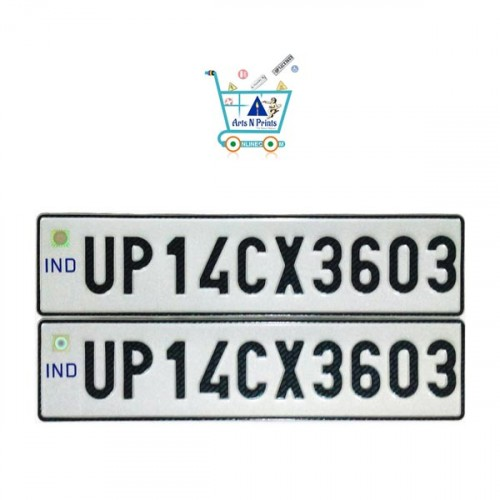number_plate: (37, 213, 467, 319), (38, 318, 465, 420)
